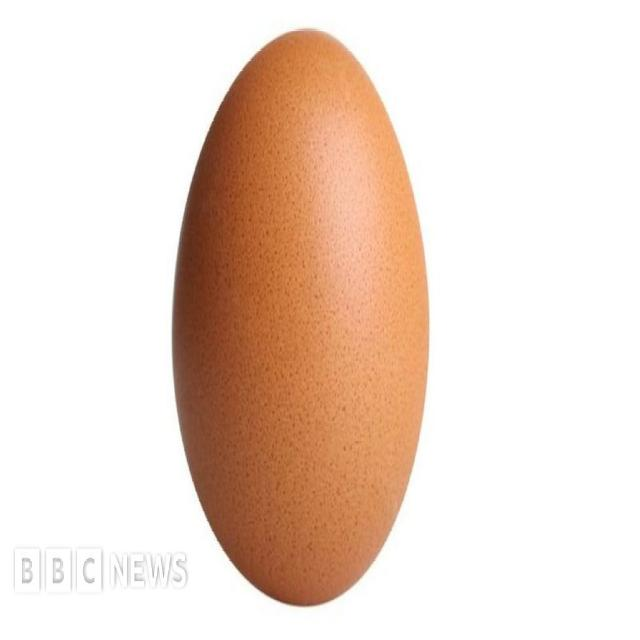eggs: (171, 28, 430, 610)
